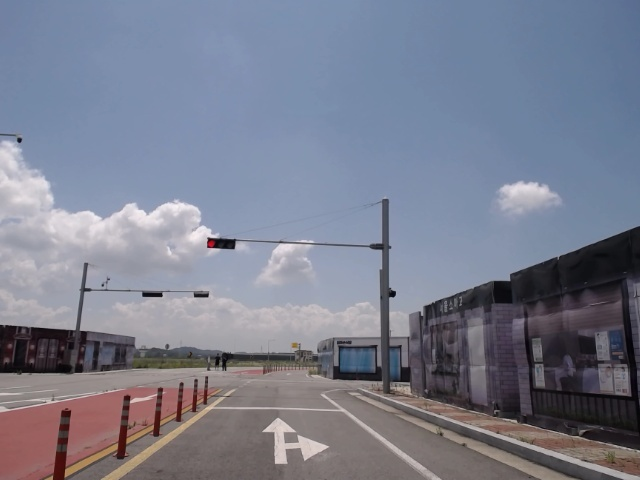red_3: (206, 237, 237, 251)
